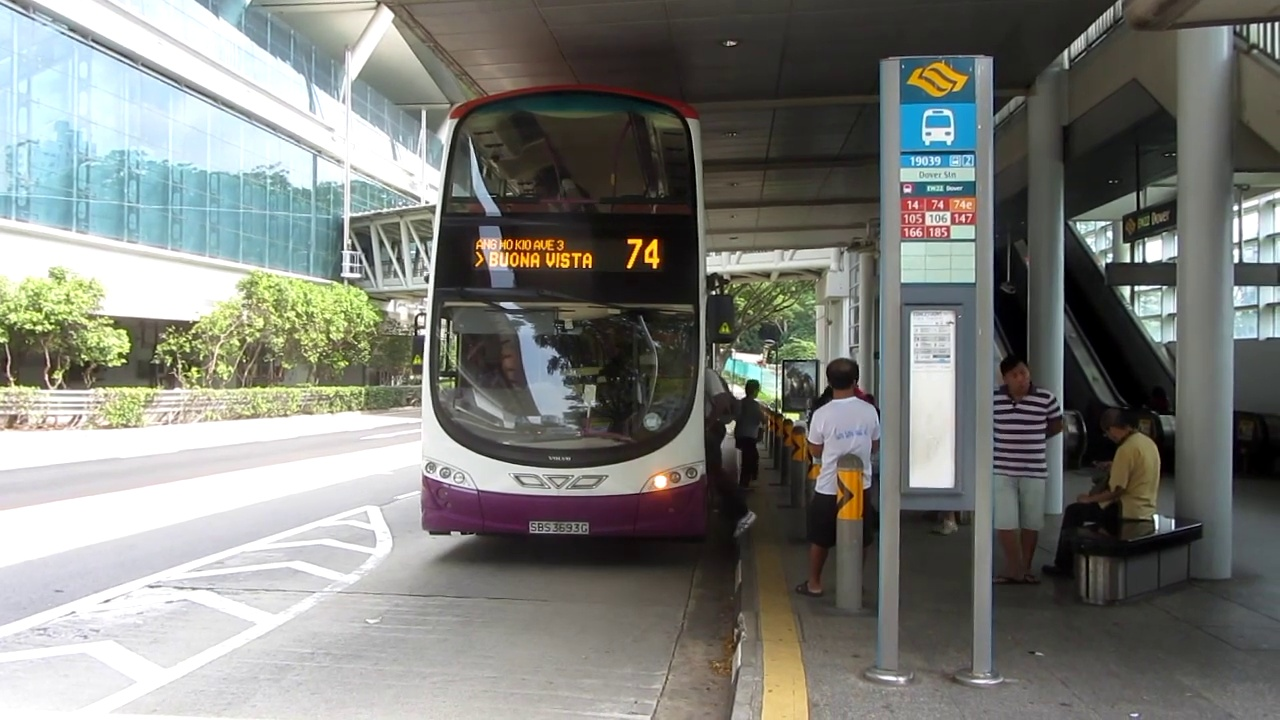bus panel: (469, 233, 666, 277)
